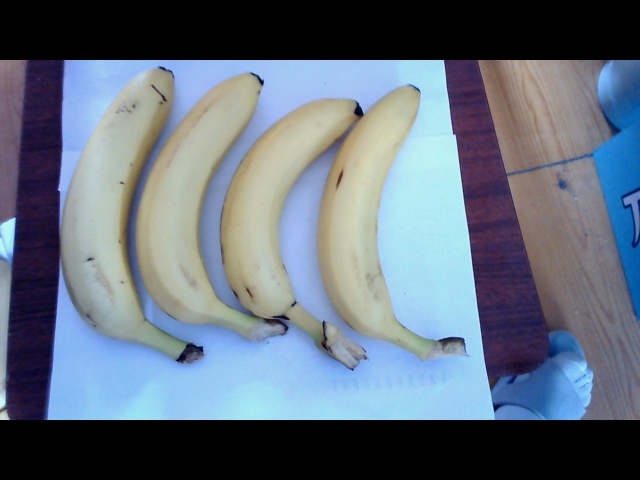banana: (318, 84, 445, 358), (220, 77, 331, 353), (57, 58, 148, 362), (145, 72, 236, 352)
